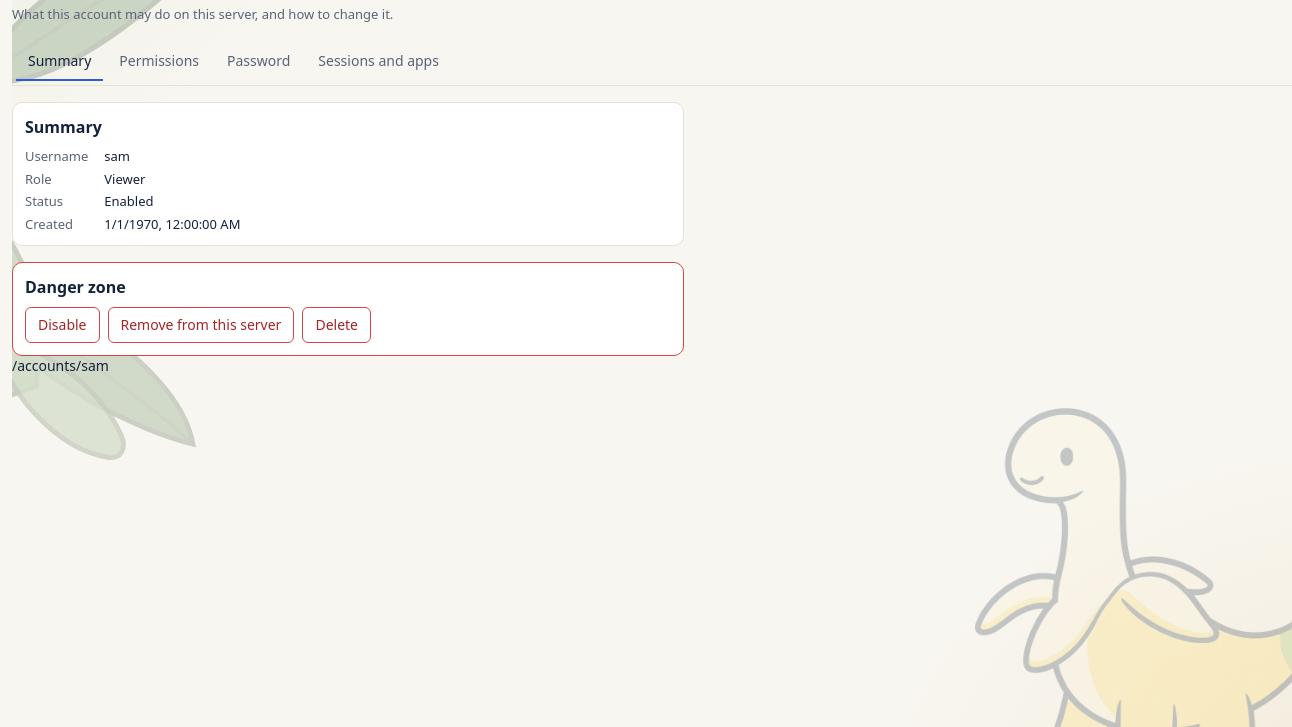
it: AccountEditPage › keeps the draft after a refused save, across tab switches, with no extra writes
Expected: the text "sam" is shown, [104,147,130,165]
Click the tab "Permissions".
click(159, 62)  # box [107,43,211,81]
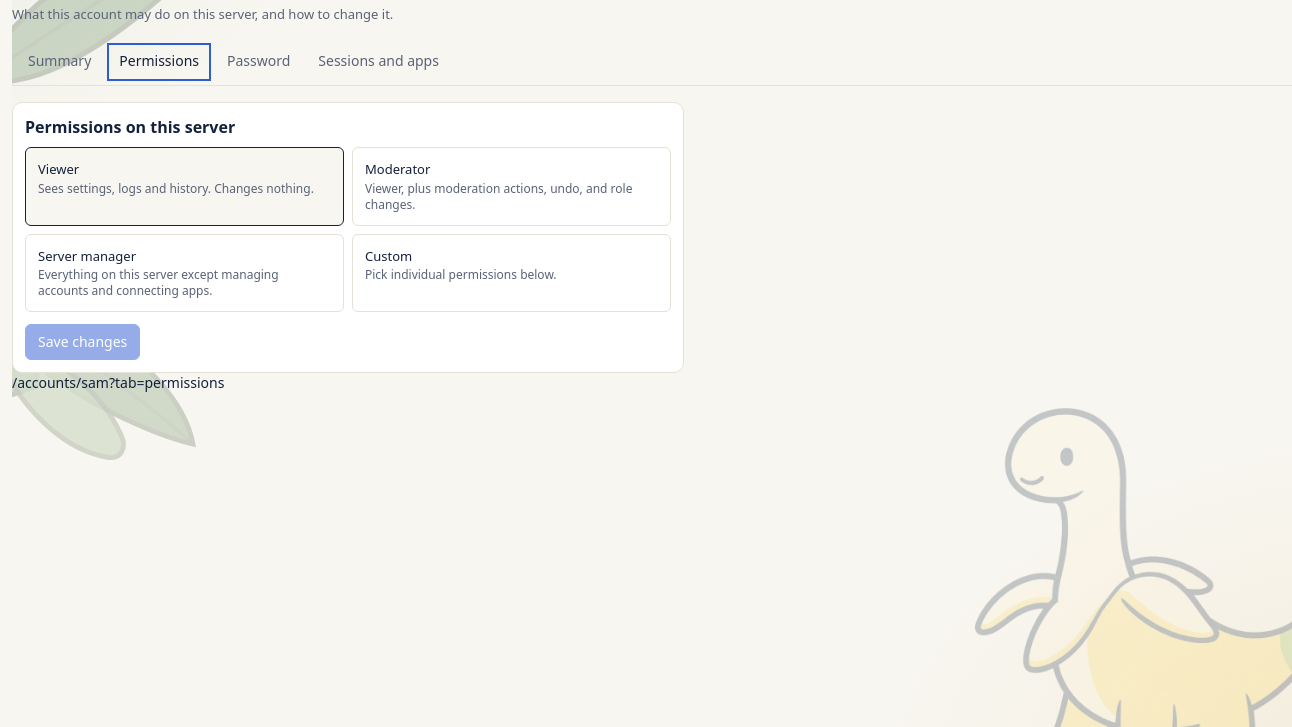
Click the radio button labelled "Custom Pick individual permissions below.".
click(512, 273)  # box [352,234,671,312]
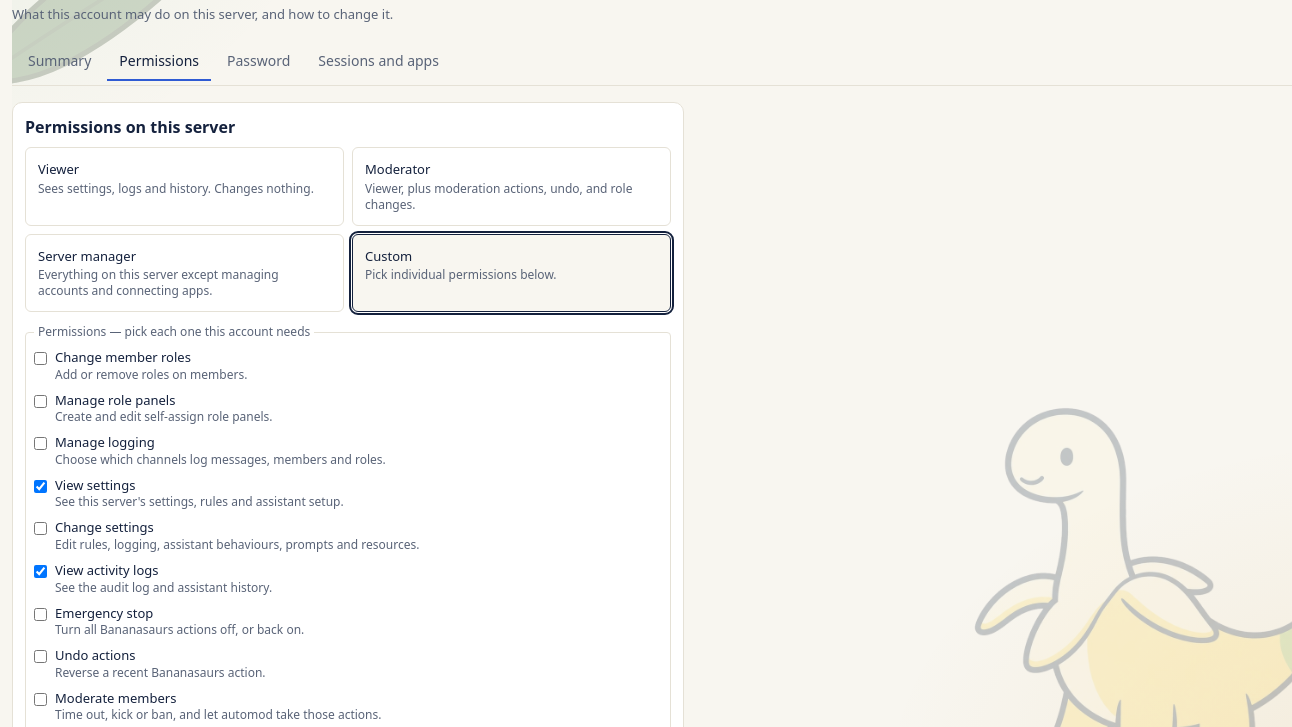
Click the checkbox labelled "Moderate members".
click(40, 699)  # box [34,693,47,706]
(page scrolled)
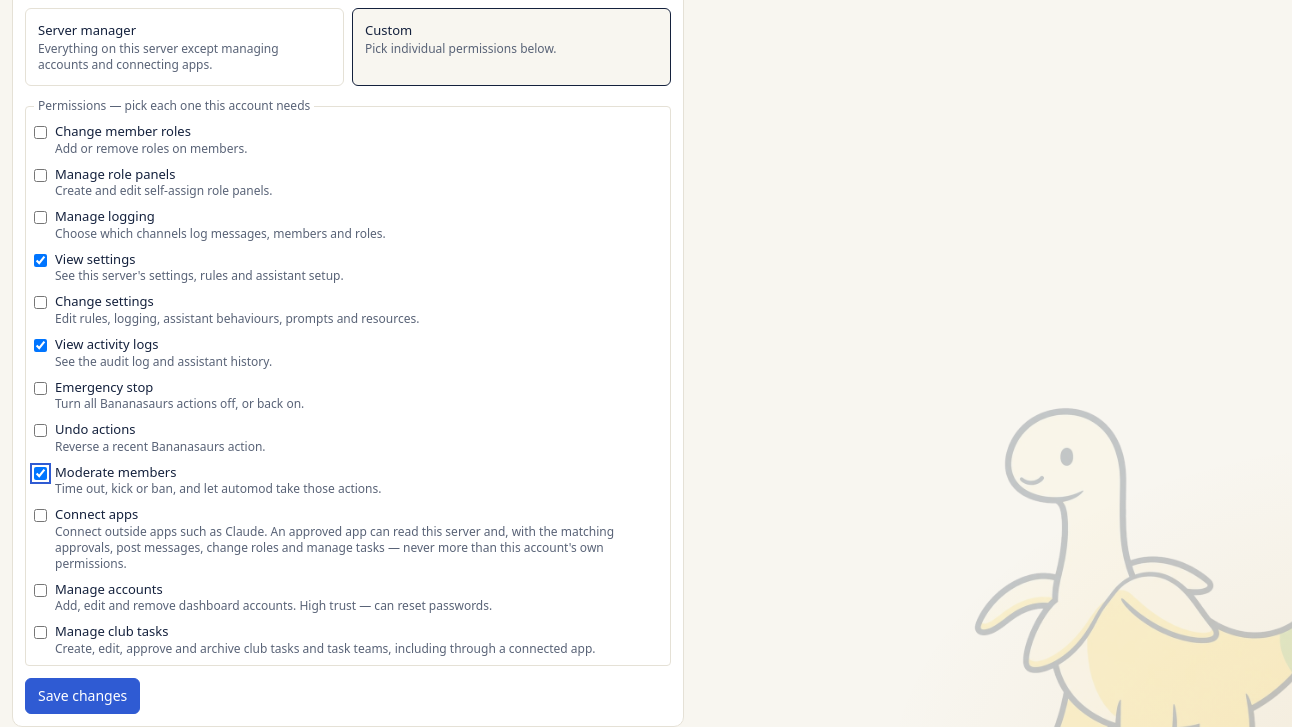
Click the button "Save changes".
click(83, 696)  # box [25,678,140,714]
(page scrolled)
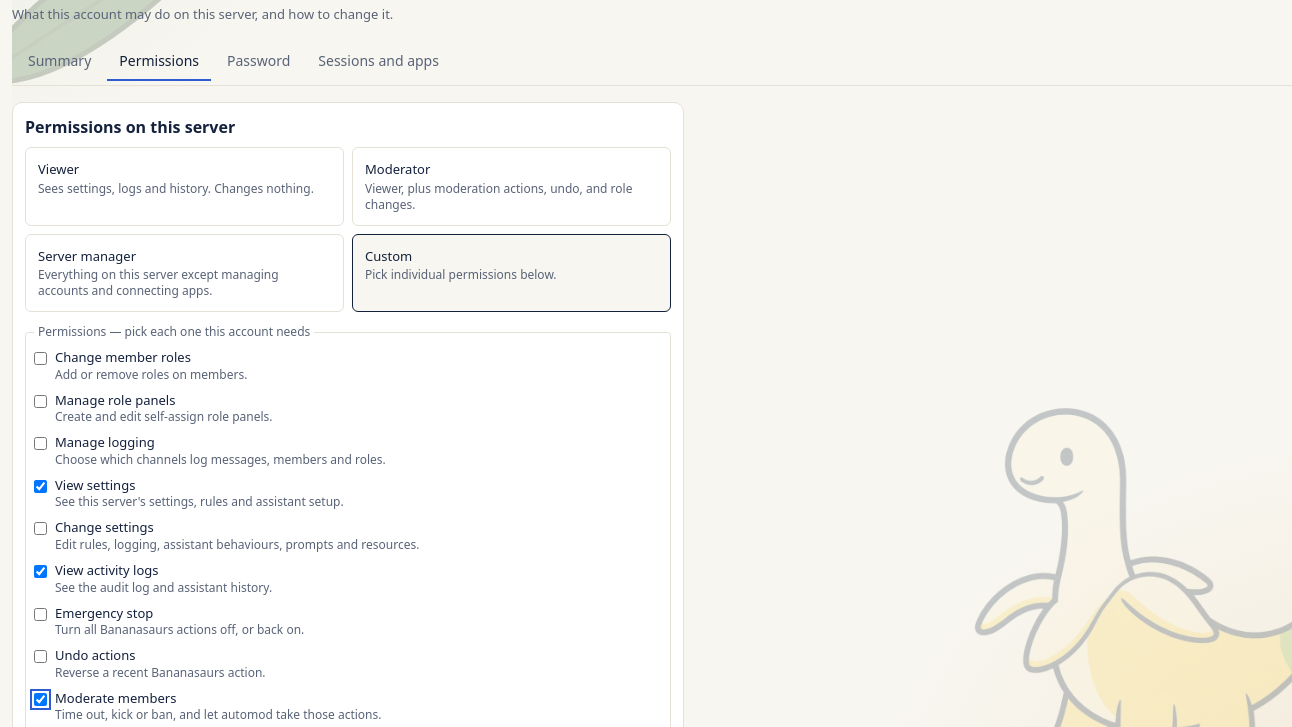
Click the tab "Summary".
click(60, 62)  # box [16,43,103,81]
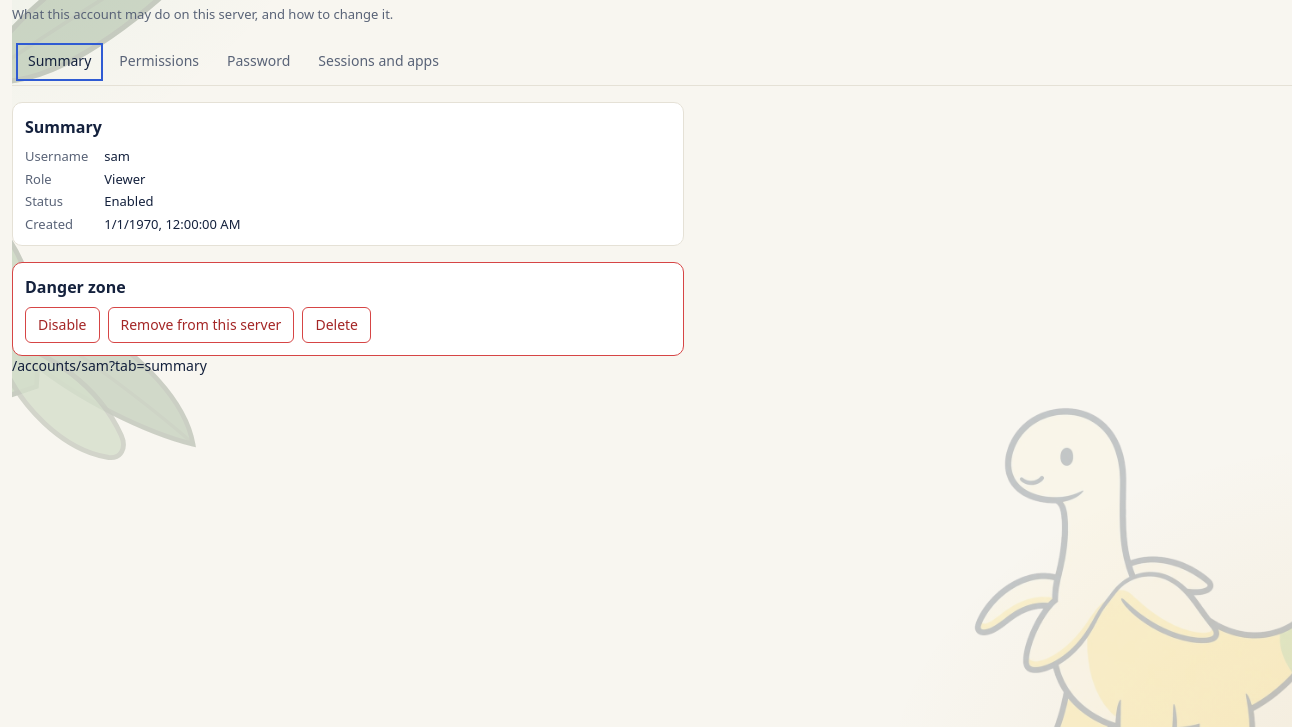
Click the tab "Permissions".
click(159, 62)  # box [107,43,211,81]
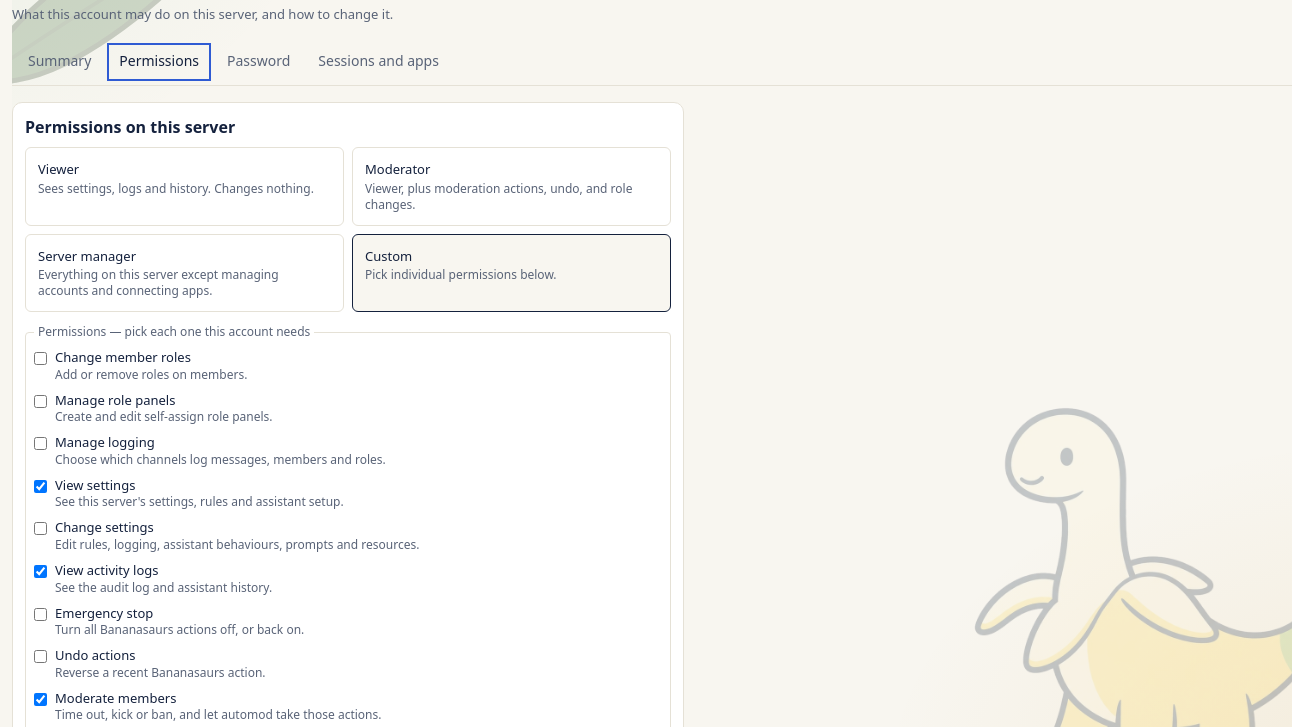
Expected: the checkbox labelled "Moderate members" is checked, [34,693,47,706]
